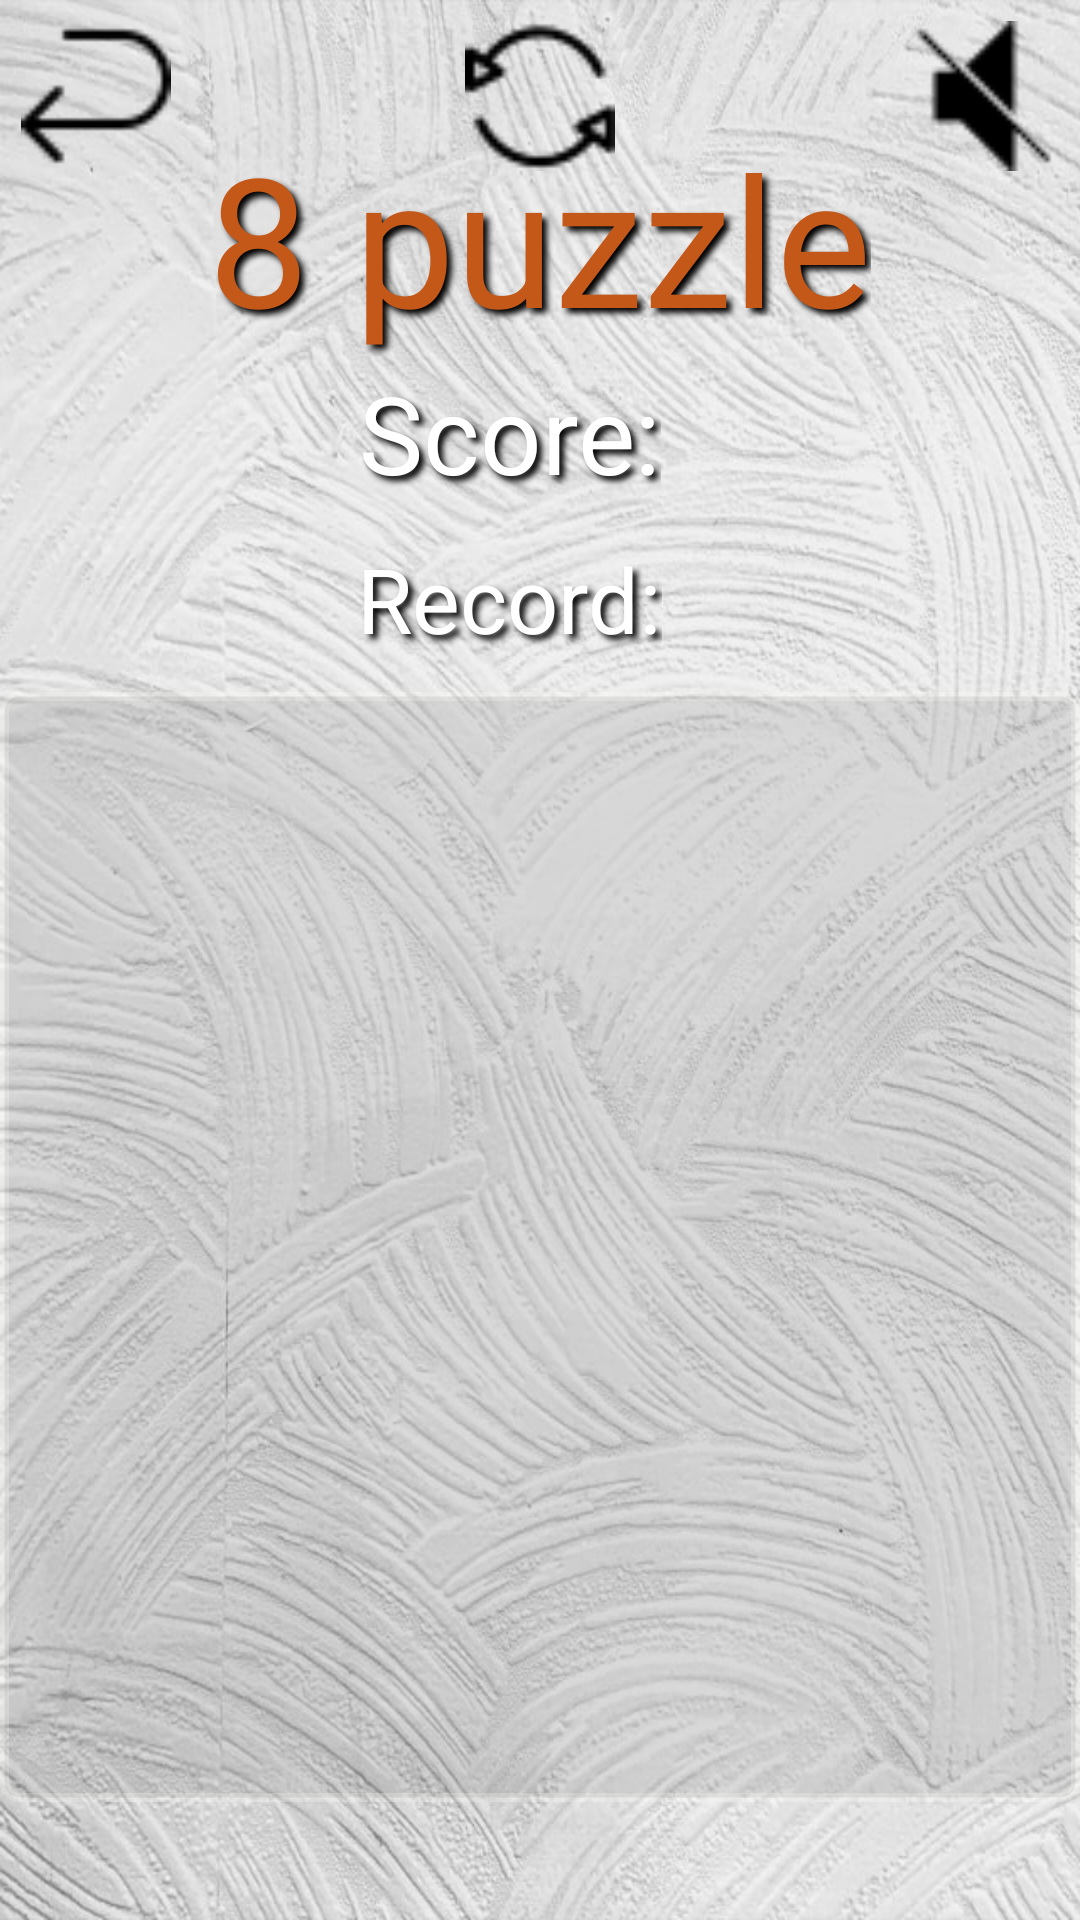

Icons on this 1080px×1920px Android screen, each with its box as bbox=[x1, y1, x2, y2]:
back: bbox=[21, 21, 171, 171]
restart: bbox=[465, 21, 615, 171]
soundoff: bbox=[909, 21, 1059, 171]
